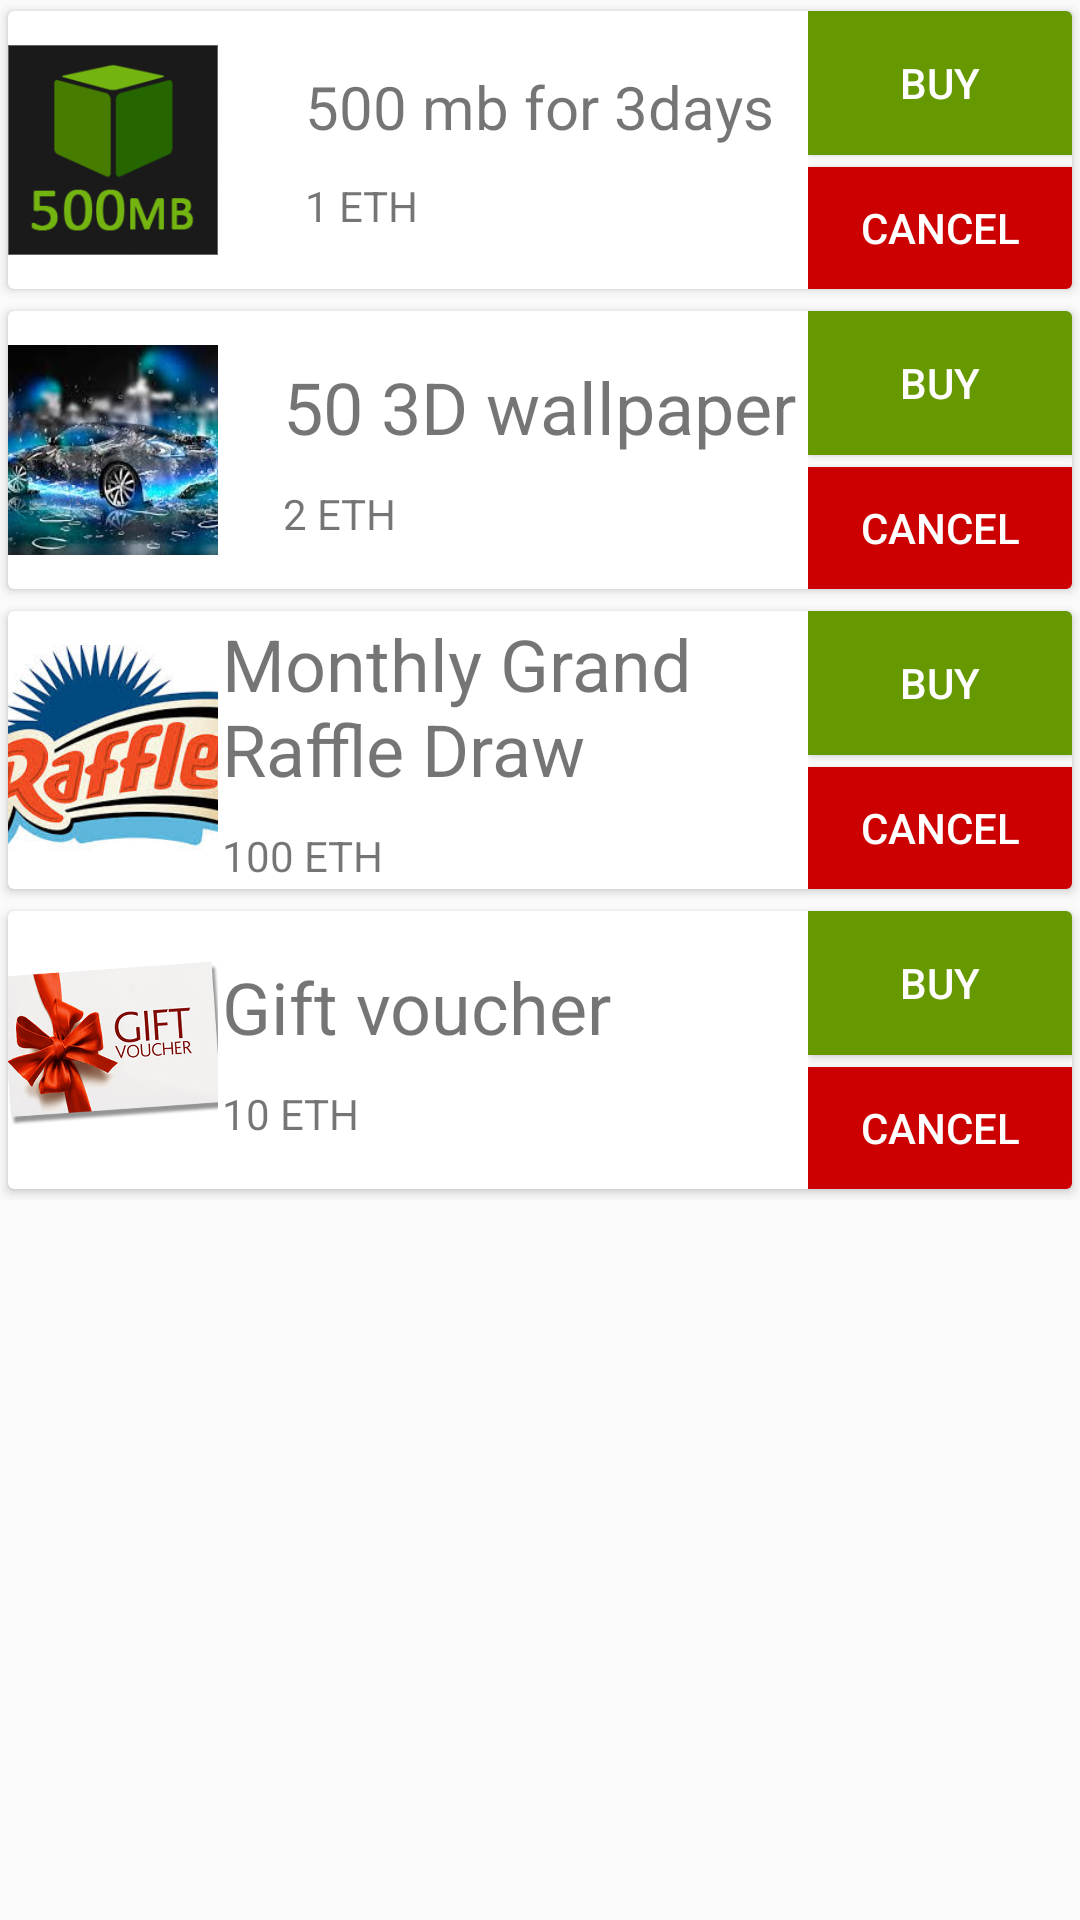

Named icons in this screenshot (1080 × 1920) and their bounding boxes, (x1, y1, x2, y2):
car: (8, 345, 218, 555)
